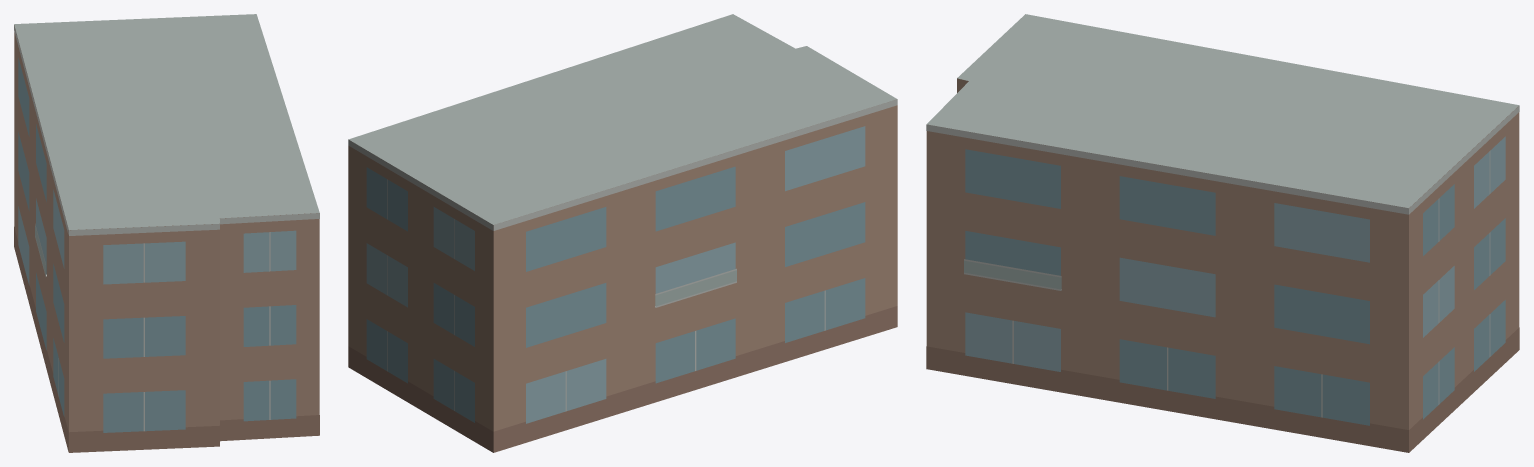
The model's file is survey-upis-32687666.glb.
The picture shows the model from 3 angles, left to right: view 1: azimuth 30°, elevation 25°; view 2: azimuth 150°, elevation 25°; view 3: azimuth 270°, elevation 25°; orthographic projection. The views are drawn at different scales.
Parts seen in each view (by area): view 1: survey-upis-32687666.tmp; view 2: survey-upis-32687666.tmp; view 3: survey-upis-32687666.tmp.
Boxes of the visible parts, left/top/right/bottom form: survey-upis-32687666.tmp: left=14, top=14, right=319, bottom=452; survey-upis-32687666.tmp: left=348, top=14, right=897, bottom=452; survey-upis-32687666.tmp: left=926, top=14, right=1519, bottom=452.
Size of the model in its own units: 15.59 by 9.15 by 20.11.
